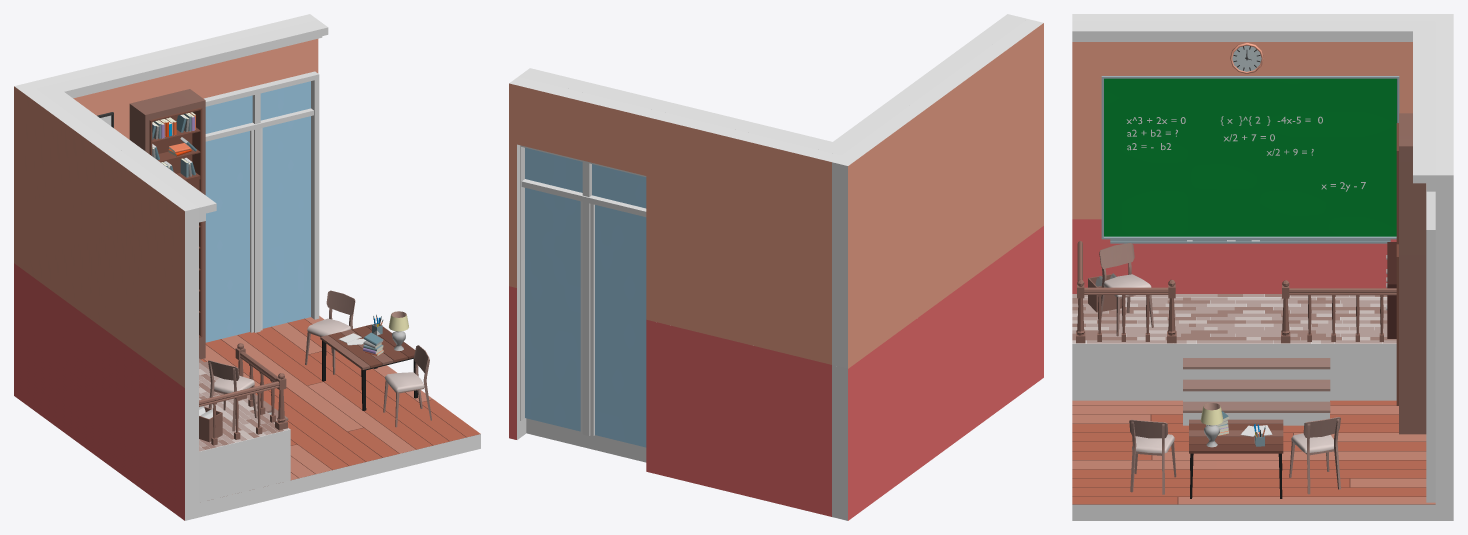
The model's file is room_23.glb.
3 renders of one model, left to right at view 1: azimuth 30°, elevation 25°; view 2: azimuth 150°, elevation 25°; view 3: azimuth 270°, elevation 25°, orthographic. The views are drawn at different scales.
Parts seen in each view (by area): view 1: Walls_161.002, window_009.001, Walls_133.003, floor_006.001, Walls_056.007, tv_wall_024.003, Walls_003.044, Walls_003.098, Walls_161.004, Walls_161.003, Walls_003.097, entertainment_032.001 (+7 smaller); view 2: Walls_161.002, Walls_161.003, window_009.001, Walls_133.003, Walls_133.002, Walls_161.004, Walls_003.098, Walls_003.097, Walls_161.005, Walls_133.004, Walls_056.007; view 3: entertainment_031.001, floor_006.001, Walls_161.002, Walls_133.003, Walls_003.044, Walls_056.007, tv_wall_024.003, floor_018.004, Walls_003.097, floor_018.005, Stairs_053.001, Walls_161.005 (+19 smaller).
Part boxes in pixels (x1,y1,x2,y2): Walls_161.002: [14, 83, 198, 387]; window_009.001: [204, 71, 319, 342]; Walls_133.003: [14, 263, 198, 520]; floor_006.001: [201, 316, 480, 480]; Walls_056.007: [199, 318, 480, 517]; tv_wall_024.003: [129, 89, 205, 359]; Walls_003.044: [199, 369, 290, 502]; Walls_003.098: [36, 20, 328, 97]; Walls_161.004: [190, 16, 310, 98]; Walls_161.003: [28, 43, 198, 139]; Walls_003.097: [47, 92, 216, 214]; entertainment_032.001: [199, 343, 287, 445]; Walls_161.002: [832, 19, 1043, 368]; Walls_161.003: [646, 110, 840, 364]; window_009.001: [520, 145, 646, 447]; Walls_133.003: [832, 226, 1043, 520]; Walls_133.002: [646, 319, 831, 516]; Walls_161.004: [517, 78, 655, 175]; Walls_003.098: [519, 68, 852, 155]; Walls_003.097: [833, 14, 1026, 146]; Walls_161.005: [509, 76, 525, 287]; Walls_133.004: [509, 286, 526, 439]; Walls_056.007: [526, 418, 646, 462]; entertainment_031.001: [1101, 76, 1399, 243]; floor_006.001: [1072, 400, 1435, 504]; Walls_161.002: [1072, 14, 1453, 219]; Walls_133.003: [1072, 219, 1396, 293]; Walls_003.044: [1072, 294, 1396, 400]; Walls_056.007: [1072, 405, 1435, 520]; tv_wall_024.003: [1396, 113, 1426, 434]; floor_018.004: [1072, 294, 1253, 343]; Walls_003.097: [1072, 21, 1412, 39]; floor_018.005: [1254, 294, 1396, 343]; Stairs_053.001: [1183, 369, 1329, 425]; Walls_161.005: [1435, 171, 1453, 372].
Size of the model in its own units: 4.2 by 4.2 by 4.2.
Materials: 1 (1 with a texture image).
